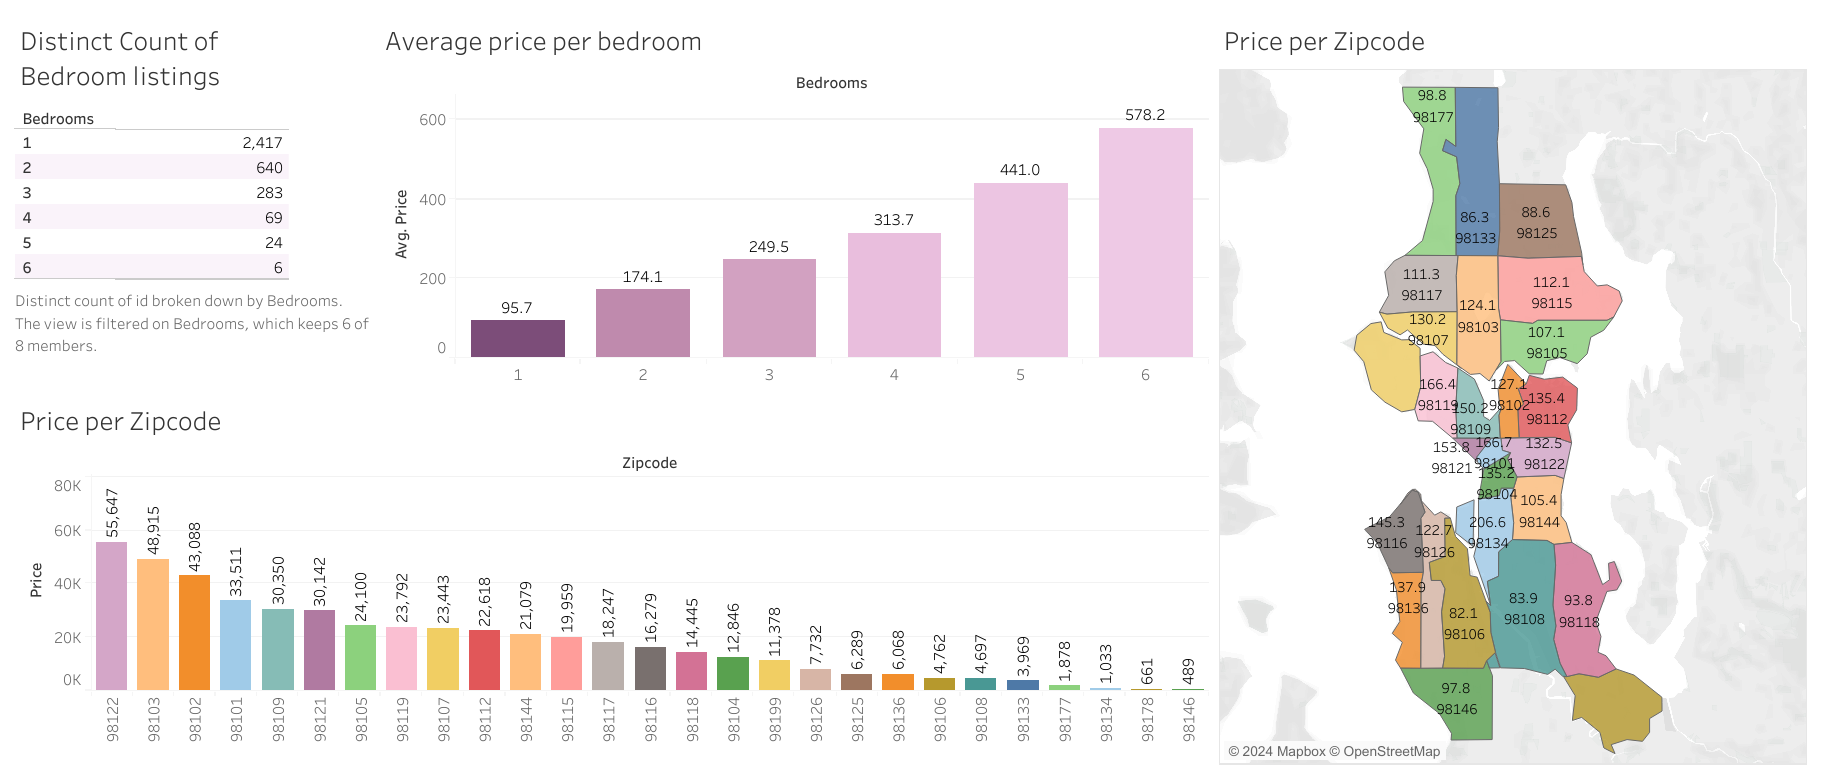

The dashboard page shown, as its layout file describes it:
{"tool":"tableau","page":{"name":"Dashboard 1","canvas":[1000,1000],"units":"permille","ordinal":0},"visuals":[{"type":"worksheet","title":"Sheet 1","mark":"Automatic","box":[4.8,9.4,395.9,156.3]},{"type":"worksheet","title":"Sheet 3","mark":"Automatic","box":[400.7,9.4,594.5,839]},{"type":"worksheet","title":"Sheet 2","mark":"Automatic","rows":["TotalDeathCount"],"cols":["location"],"box":[4.8,165.7,395.9,333.7]},{"type":"worksheet","title":"Sheet 4","mark":"Automatic","rows":["PercentagePopulationInfected"],"cols":["date"],"box":[4.8,499.4,395.9,491.2]},{"type":"legend","title":"Sheet 3","param":"[federated.0ovzmdi0dsr53b10wrzn71i37eri].[sum:PercentagePopelationInfected:qk]","box":[400.7,848.4,594.5,74]},{"type":"legend","title":"Sheet 4","param":"[federated.15xqhtc0qfcvlh17vz5lo0hxi40i].[none:location:nk]\n[federated.15xqhtc0q","box":[400.7,922.4,594.5,68.2]}]}

Visuals, with their boxes on the dashboard's canvas, which has no fixed pixel size, in thousandths of its width and height (x1, y1, x2, y2). These are canvas units, not pixel positions in the 1821x779 screenshot, which may show the page scaled, cropped or inside an application window:
"Sheet 1" worksheet: crop(5, 9, 401, 166)
"Sheet 3" worksheet: crop(401, 9, 995, 848)
"Sheet 2" worksheet: crop(5, 166, 401, 499)
"Sheet 4" worksheet: crop(5, 499, 401, 991)
"Sheet 3" legend: crop(401, 848, 995, 922)
"Sheet 4" legend: crop(401, 922, 995, 991)
